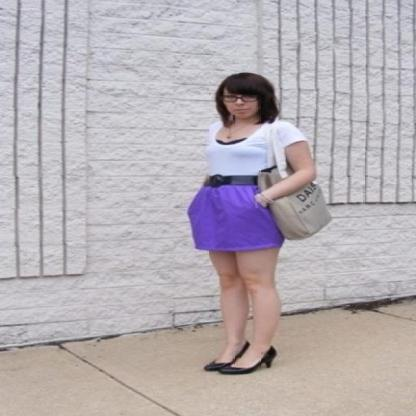bag: (263, 179, 336, 240)
shirt: (196, 119, 306, 175)
shoe: (204, 341, 276, 374)
skirt: (187, 185, 283, 250)
